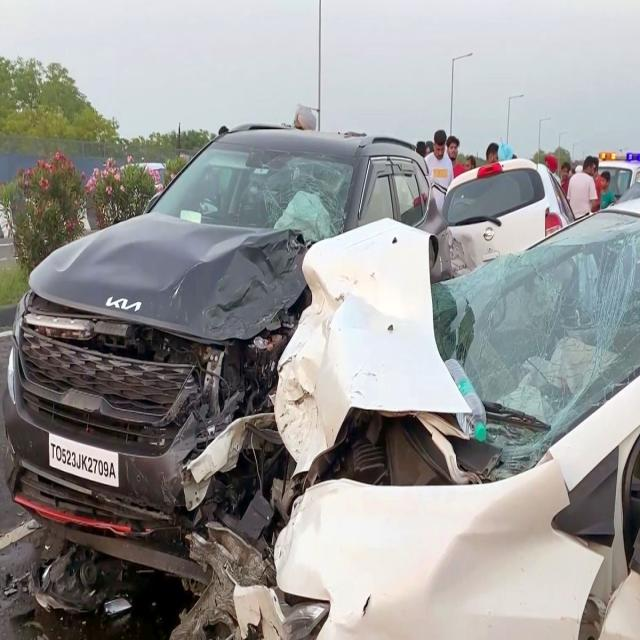accident: (4, 124, 448, 581), (178, 214, 640, 639)
